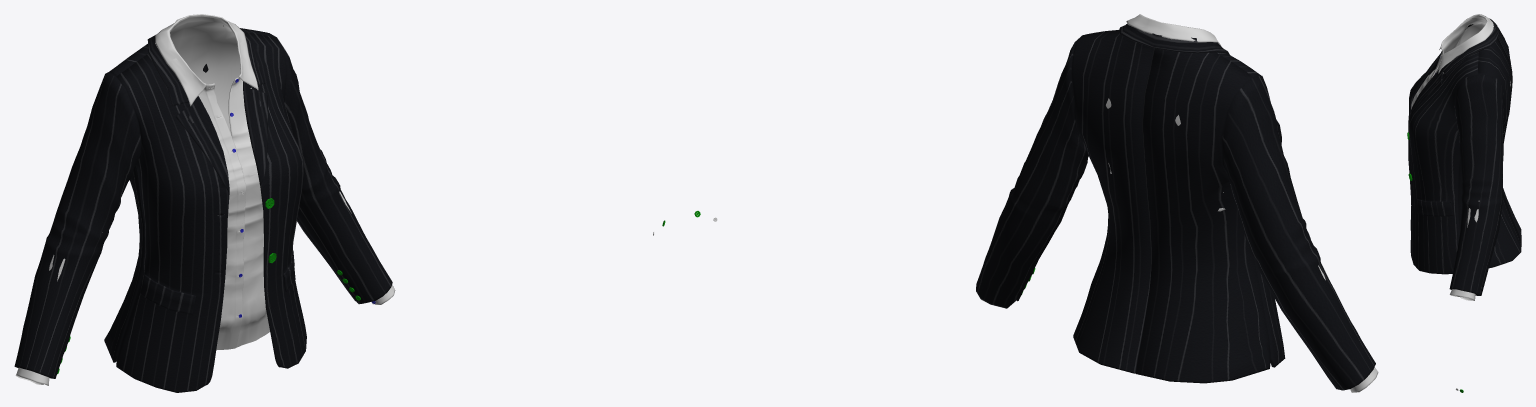
The model's file is stripe-suit.obj.
3 renders of one model, left to right at view 1: azimuth 30°, elevation 25°; view 2: azimuth 150°, elevation 25°; view 3: azimuth 270°, elevation 25°, orthographic. The views are drawn at different scales.
Bounding box in the file's own units: 15.78 × 7.67 × 3.46.
Materials: 5 (1 with a texture image).
